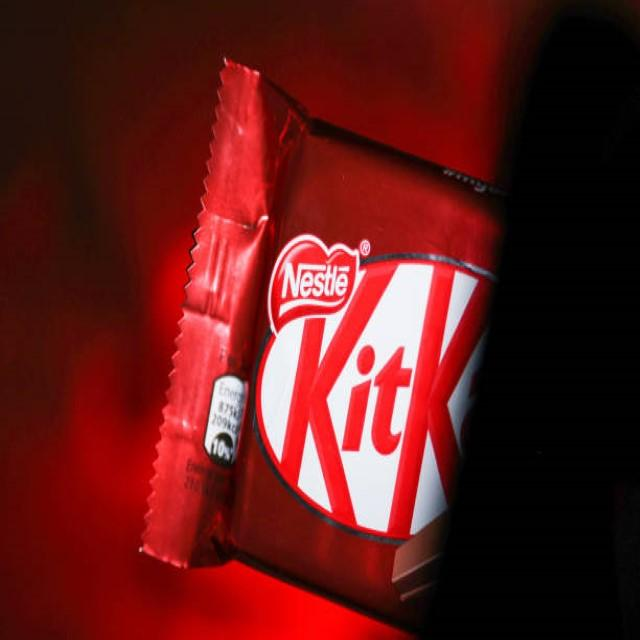kitkat_chocolate: (157, 65, 510, 628)
